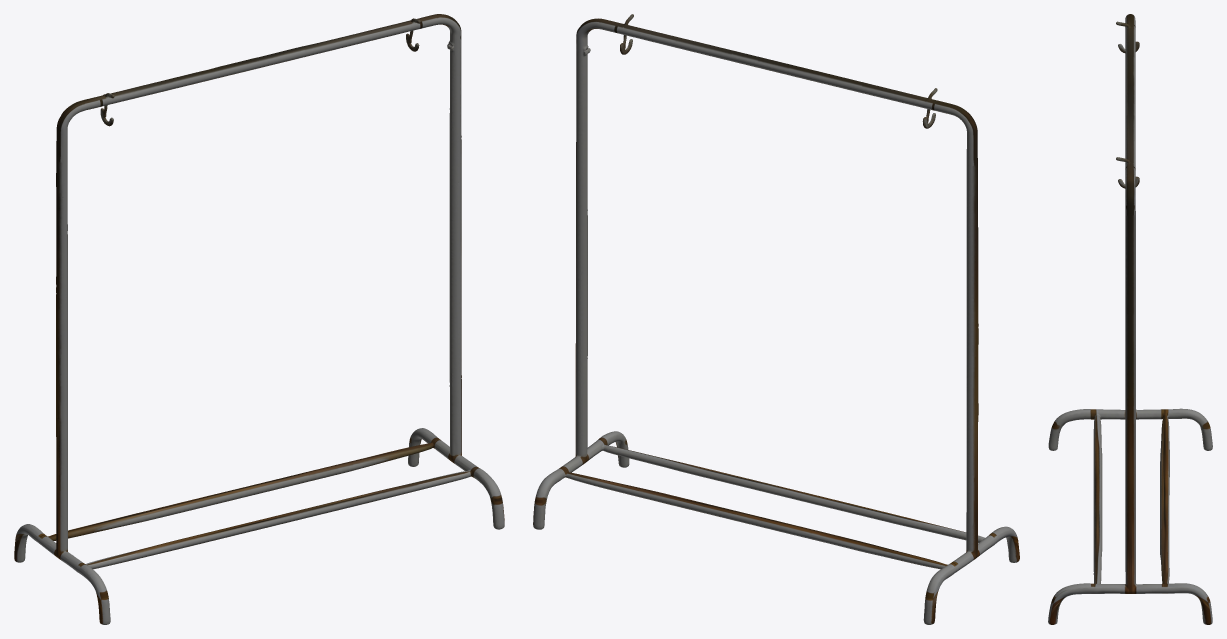
The model's file is clothes+rack+3d+model.glb.
The picture shows the model from 3 angles, left to right: view 1: azimuth 30°, elevation 25°; view 2: azimuth 150°, elevation 25°; view 3: azimuth 270°, elevation 25°; orthographic projection. The views are drawn at different scales.
Visible parts, largest first — view 1: tripo_node_1c30dc50-8337-43f5-ba2e-f14499b97cfc; view 2: tripo_node_1c30dc50-8337-43f5-ba2e-f14499b97cfc; view 3: tripo_node_1c30dc50-8337-43f5-ba2e-f14499b97cfc.
Boxes of the visible parts, x1,y1,x2,y2 form: tripo_node_1c30dc50-8337-43f5-ba2e-f14499b97cfc: [14, 14, 504, 624]; tripo_node_1c30dc50-8337-43f5-ba2e-f14499b97cfc: [533, 14, 1019, 624]; tripo_node_1c30dc50-8337-43f5-ba2e-f14499b97cfc: [1048, 14, 1212, 624].
Bounding box in the file's own units: 0.86 × 1 × 0.334.
1 material, 1 textured.
